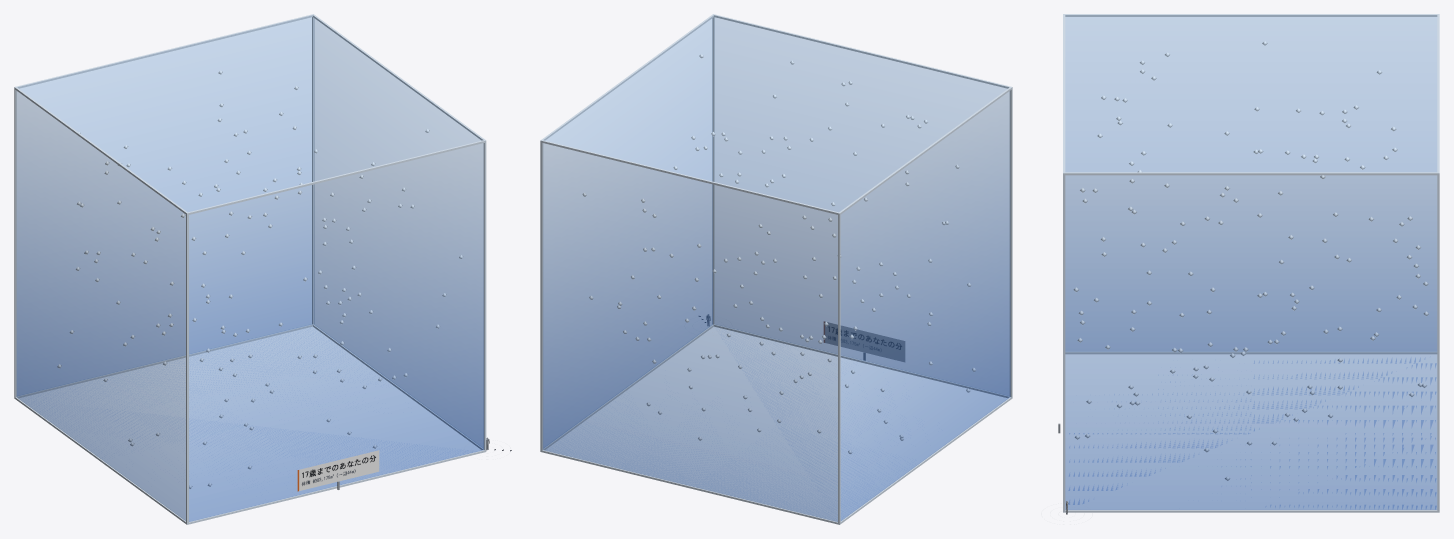
The model's file is cube_life_17.glb.
3 renders of one model, left to right at view 1: azimuth 30°, elevation 25°; view 2: azimuth 150°, elevation 25°; view 3: azimuth 270°, elevation 25°, orthographic. The views are drawn at different scales.
Parts seen in each view (by area): view 1: co2, edge, dots, label; view 2: co2, edge, dots, label; view 3: co2, edge, dots.
Part boxes in pixels (bbox=[...]): co2: bbox=[16, 15, 483, 521]; edge: bbox=[14, 14, 486, 524]; dots: bbox=[57, 70, 463, 488]; label: bbox=[297, 450, 379, 491]; co2: bbox=[543, 15, 1010, 521]; edge: bbox=[540, 14, 1012, 524]; dots: bbox=[582, 54, 975, 454]; label: bbox=[824, 321, 904, 361]; co2: bbox=[1065, 15, 1437, 509]; edge: bbox=[1063, 14, 1439, 512]; dots: bbox=[1073, 41, 1428, 480].
Size of the model in its own units: 47.35 by 43.65 by 46.45.
Materials: 8 (3 with a texture image).
